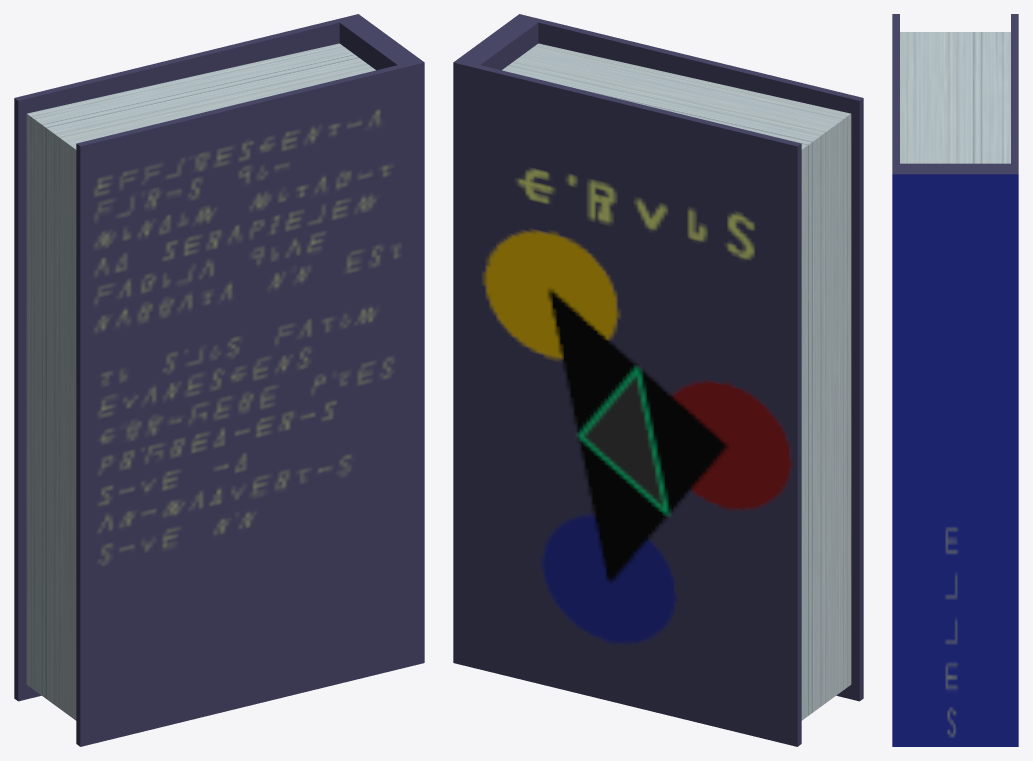
File: Book.fbx
3 renders of one model, left to right at view 1: azimuth 30°, elevation 25°; view 2: azimuth 150°, elevation 25°; view 3: azimuth 270°, elevation 25°, orthographic. The views are drawn at different scales.
Parts seen in each view (by area): view 1: Book; view 2: Book; view 3: Book.
Boxes of the visible parts, <box> form: Book: <box>14,14,424,746</box>; Book: <box>453,14,863,746</box>; Book: <box>892,14,1018,746</box>.
Bounding box in the file's own units: 30 × 50 × 10.
2 materials, 2 textured.
